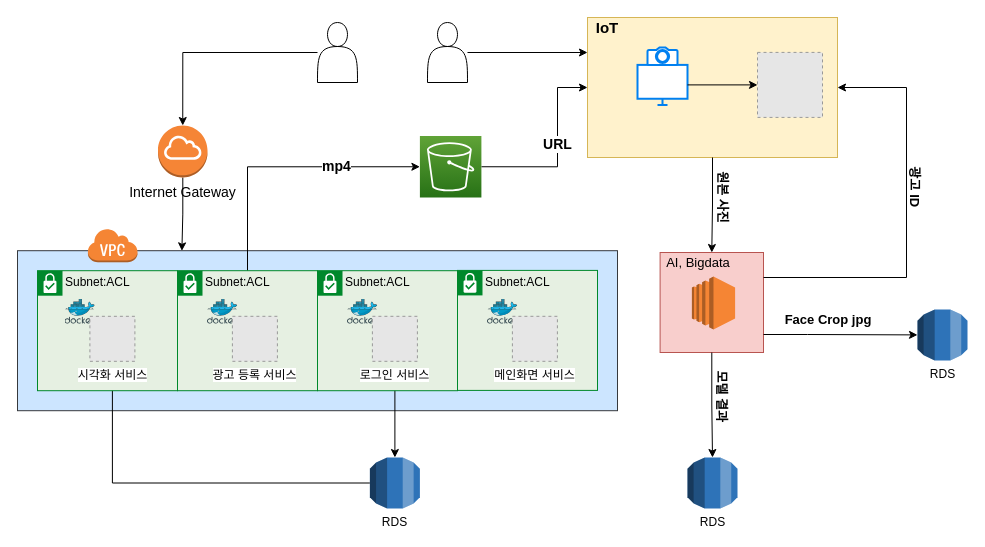
This 985x547 diagram has some shape labels left out. Grey dashed boxes stand in for pictures. The centre of each missing label's shape, as x and y in pixels:
"EC2" belongs at [713,303].
"User" belongs at [447,52].
"광고 S3" belongs at [450,166].
"광고 송출 모니터/카메라" belongs at [662,84].
"광고주" belongs at [337,52].
